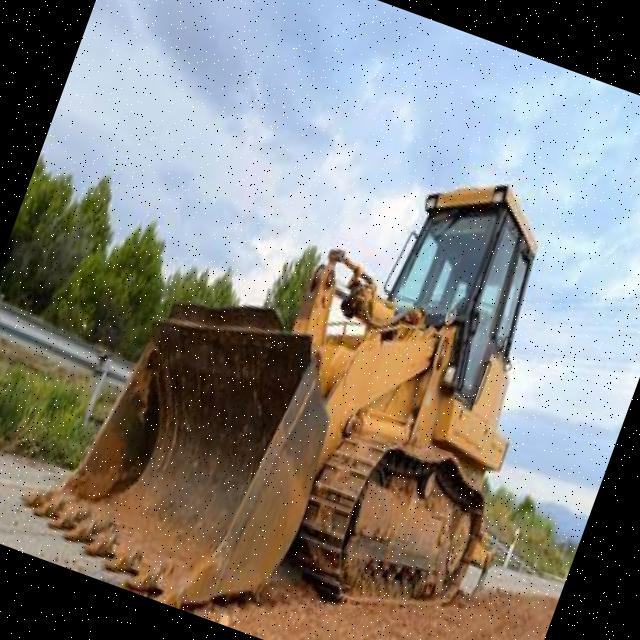Bulldozer: (0, 1, 622, 640)
